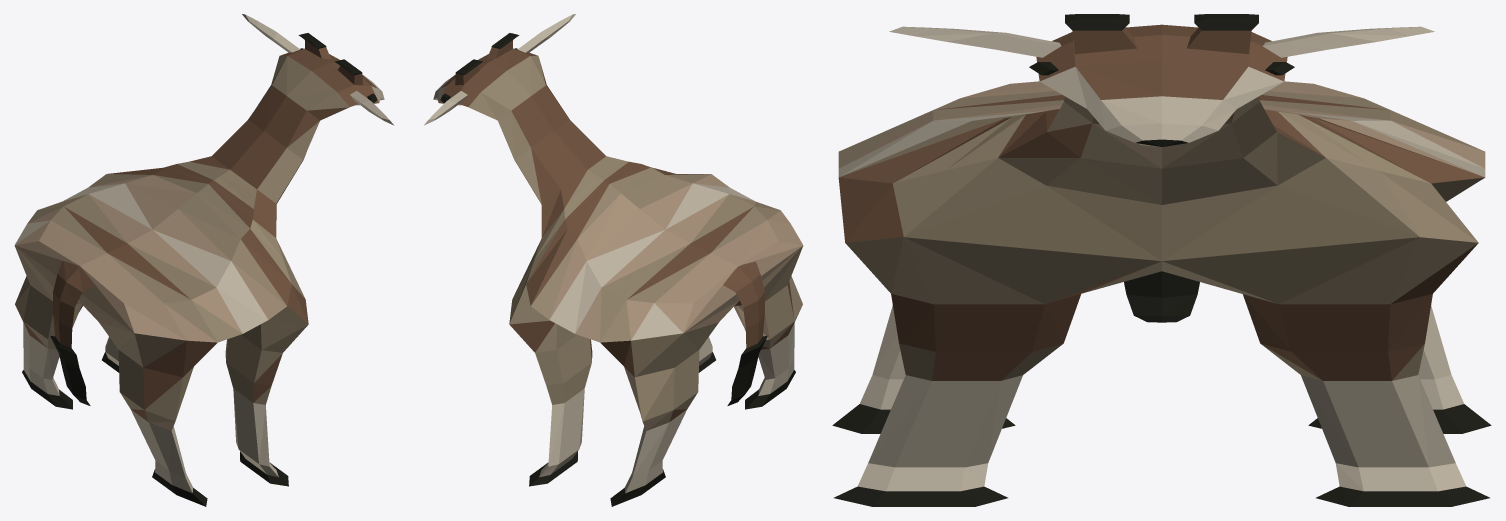
File: giraffe.glb
3 views of the same model, side by side, from view 1: azimuth 30°, elevation 25°; view 2: azimuth 150°, elevation 25°; view 3: azimuth 270°, elevation 25° (orthographic). The views are drawn at different scales.
Size of the model in its own units: 1 by 1 by 1.
